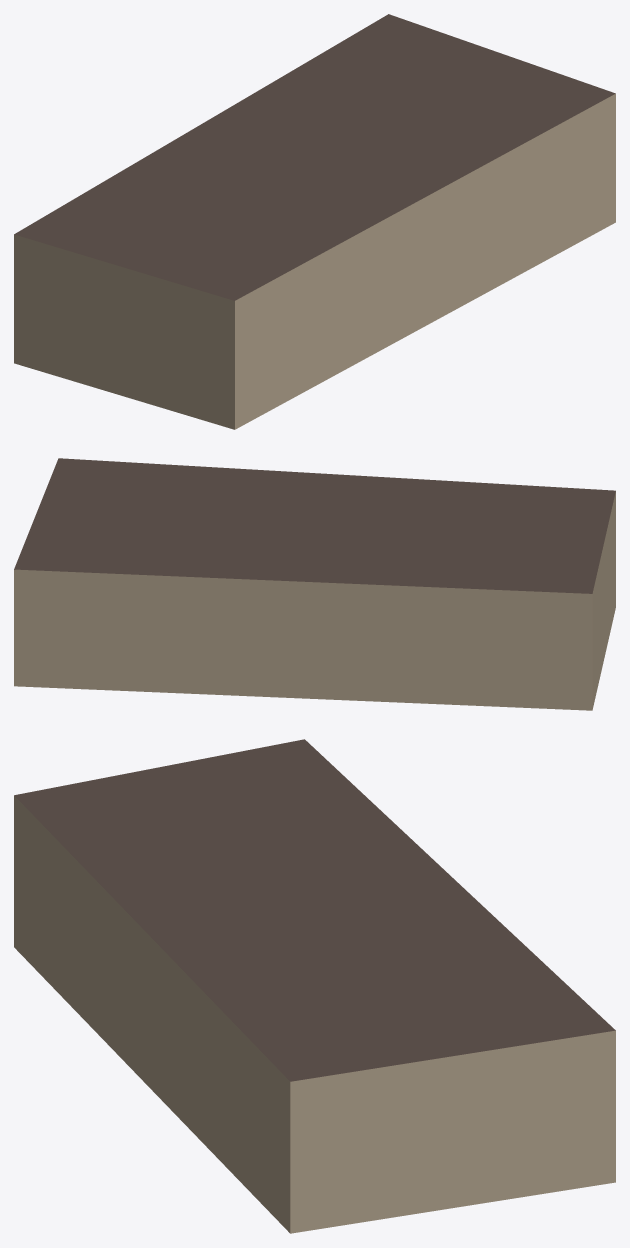
3 views of the same model, one above another, from view 1: azimuth 30°, elevation 25°; view 2: azimuth 150°, elevation 25°; view 3: azimuth 270°, elevation 25° (orthographic). The views are drawn at different scales.
Parts seen in each view (by area): view 1: HP-w1512359772; view 2: HP-w1512359772; view 3: HP-w1512359772.
Part boxes in pixels (x1=…): HP-w1512359772: x1=14, y1=14, x2=615, y2=429; HP-w1512359772: x1=14, y1=458, x2=615, y2=710; HP-w1512359772: x1=14, y1=739, x2=615, y2=1233.
Bounding box in the file's own units: 43.52 × 9 × 32.32.
